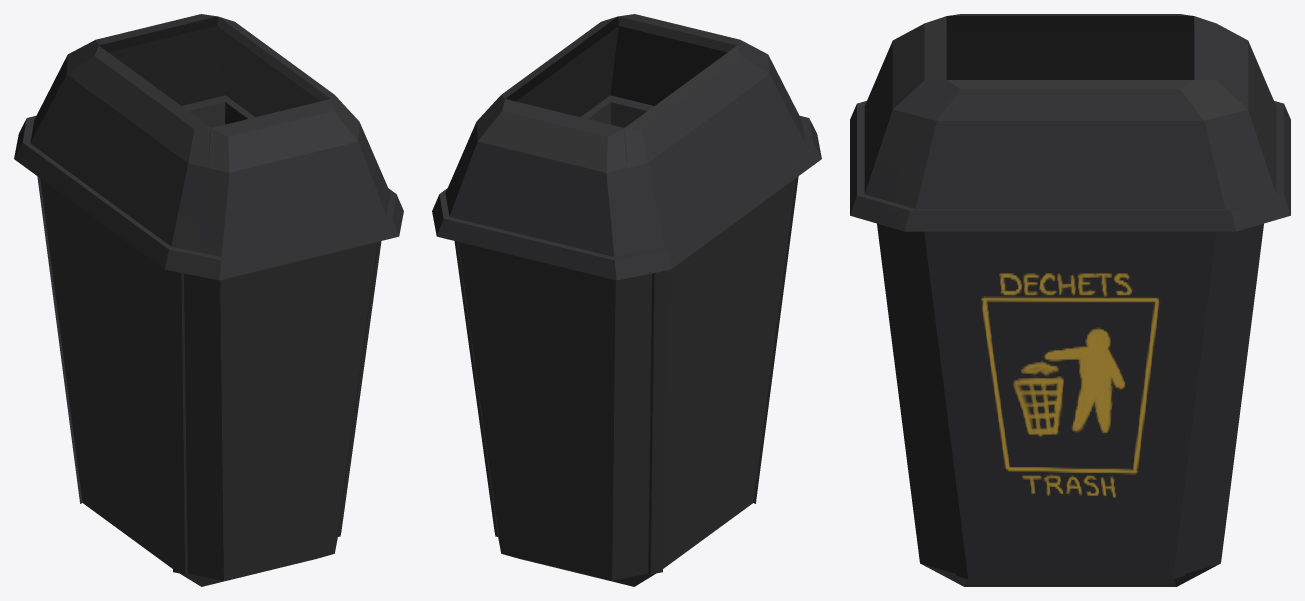
The model's file is Poubelle.fbx.
3 views of the same model, side by side, from view 1: azimuth 30°, elevation 25°; view 2: azimuth 150°, elevation 25°; view 3: azimuth 270°, elevation 25° (orthographic). The views are drawn at different scales.
Visible parts, largest first — view 1: Cube; view 2: Cube; view 3: Cube.
Part boxes in pixels (x1,y1,x2,y2): Cube: (14,14,403,586); Cube: (432,14,821,586); Cube: (850,14,1290,586).
Bounding box in the file's own units: 240 × 446 × 349.
1 material, 1 textured.
